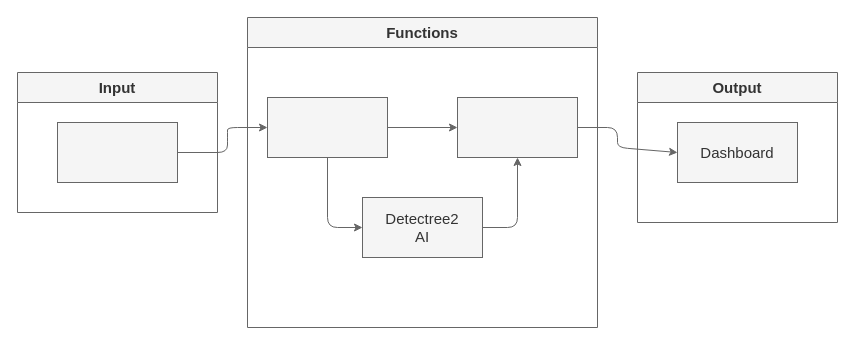
Image size: 855x345. Some labels were removed from this diagram. Here are the shapes that lost their labels. From the top down, the centre of each, then its label:
At (327,127): "GDAL2Tiles JP2 to PNG".
At (517,127): "Dash / Dash-leafet".
At (117,152): "Dataset".
